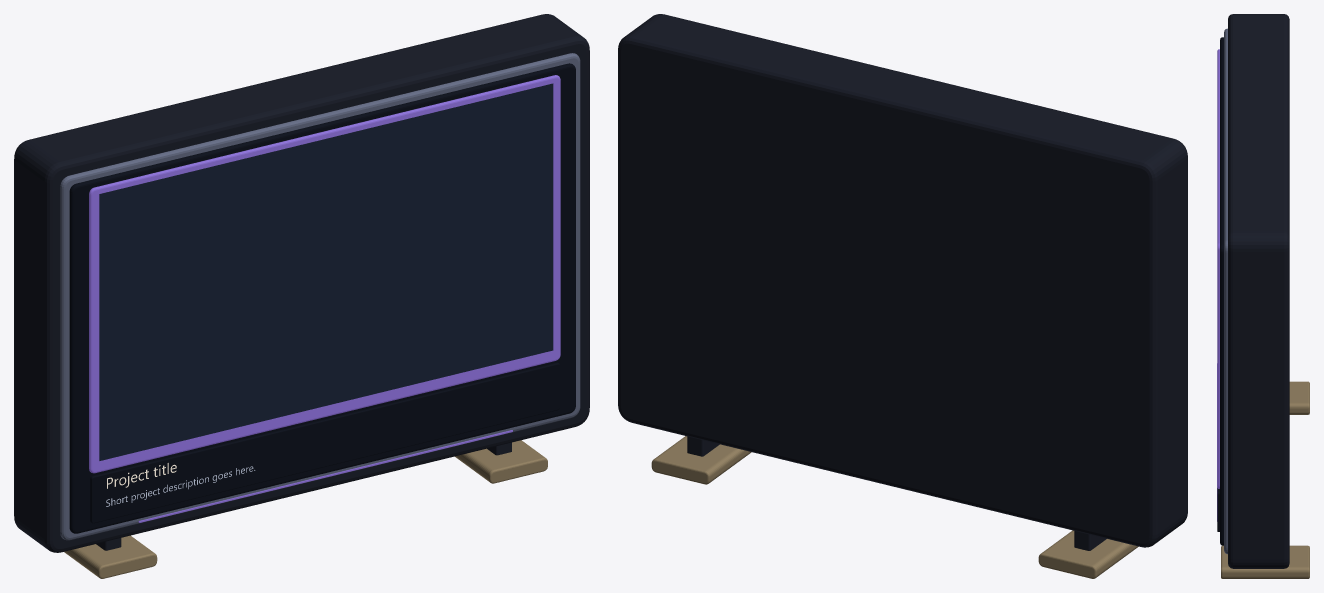
The model's file is project-display.glb.
3 views of the same model, side by side, from view 1: azimuth 30°, elevation 25°; view 2: azimuth 150°, elevation 25°; view 3: azimuth 270°, elevation 25° (orthographic). The views are drawn at different scales.
Parts seen in each view (by area): view 1: ProjectPreview, DisplayHousing, CaptionSurface, DeepInset, PreviewWell, TitaniumInnerBezel, Foot-1, Foot1, RecessedLowerLight; view 2: DisplayHousing, Foot1, Foot-1; view 3: DisplayHousing, TitaniumInnerBezel, DeepInset, Foot1, PreviewWell, Foot-1, RecessedLowerLight.
Boxes of the visible parts, left/top/right/bottom form: ProjectPreview: left=99, top=83, right=553, bottom=460; DisplayHousing: left=14, top=14, right=589, bottom=552; CaptionSurface: left=90, top=362, right=559, bottom=523; DeepInset: left=69, top=63, right=575, bottom=533; PreviewWell: left=89, top=75, right=560, bottom=473; TitaniumInnerBezel: left=60, top=53, right=580, bottom=540; Foot-1: left=64, top=535, right=157, bottom=578; Foot1: left=455, top=440, right=547, bottom=483; RecessedLowerLight: left=138, top=430, right=512, bottom=522; DisplayHousing: left=618, top=14, right=1187, bottom=547; Foot1: left=651, top=436, right=751, bottom=484; Foot-1: left=1038, top=530, right=1138, bottom=578; DisplayHousing: left=1228, top=14, right=1289, bottom=568; TitaniumInnerBezel: left=1224, top=28, right=1227, bottom=554; DeepInset: left=1220, top=37, right=1223, bottom=545; Foot1: left=1221, top=545, right=1309, bottom=578; PreviewWell: left=1217, top=49, right=1219, bottom=488; Foot-1: left=1289, top=381, right=1309, bottom=414; RecessedLowerLight: left=1217, top=363, right=1217, bottom=521.
Size of the model in its own units: 5.71 by 4.22 by 0.99.
